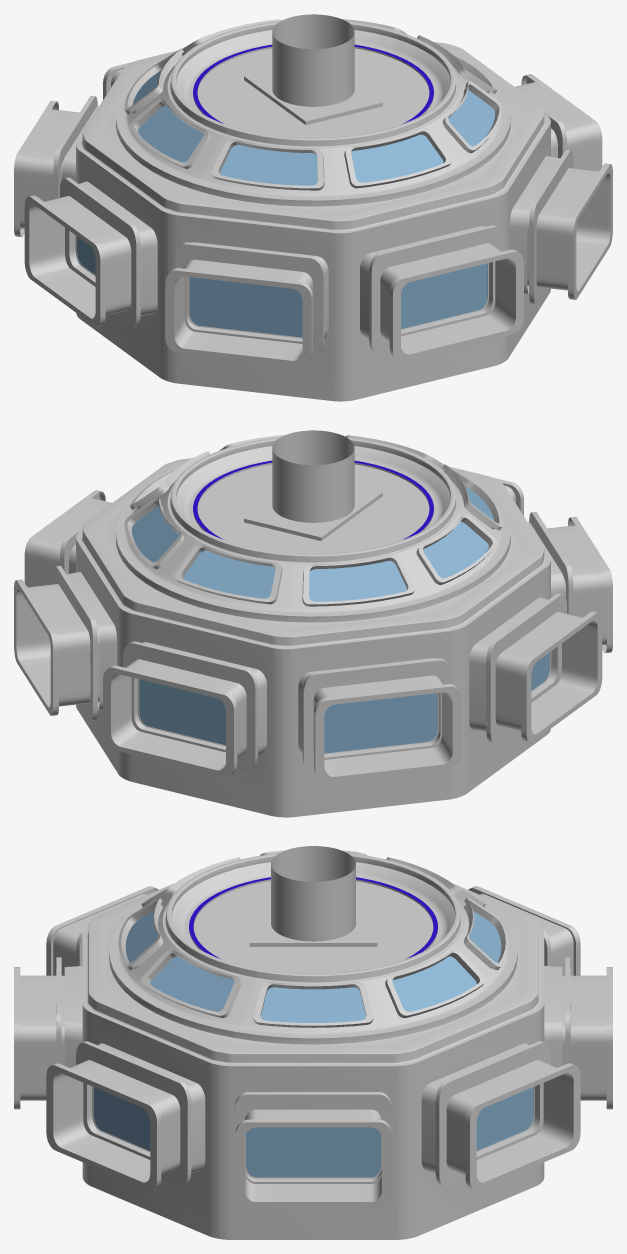
Rendered from FBX_SS_Module2_6x6.fbx.
The picture shows the model from 3 angles, top to bottom: view 1: azimuth 30°, elevation 25°; view 2: azimuth 150°, elevation 25°; view 3: azimuth 270°, elevation 25°; orthographic projection. The views are drawn at different scales.
Visible parts, largest first — view 1: Walls_Plain.001, Ceiling_Windowed.003, Walls_Plain, Ceiling_InnerFace; view 2: Walls_Plain.001, Ceiling_Windowed.003, Walls_Plain, Ceiling_InnerFace; view 3: Walls_Plain.001, Ceiling_Windowed.003, Walls_Plain, Ceiling_InnerFace.
Part boxes in pixels (<box>): Walls_Plain.001: <box>14,62,612,366</box>; Ceiling_Windowed.003: <box>76,19,550,233</box>; Walls_Plain: <box>76,122,550,401</box>; Ceiling_InnerFace: <box>188,14,438,137</box>; Walls_Plain.001: <box>14,478,612,782</box>; Ceiling_Windowed.003: <box>76,435,550,649</box>; Walls_Plain: <box>76,538,550,817</box>; Ceiling_InnerFace: <box>188,430,438,553</box>; Walls_Plain.001: <box>14,886,612,1207</box>; Ceiling_Windowed.003: <box>82,850,544,1066</box>; Walls_Plain: <box>82,1005,544,1239</box>; Ceiling_InnerFace: <box>184,846,442,973</box>.
Size of the model in its own units: 843 by 533 by 843.
